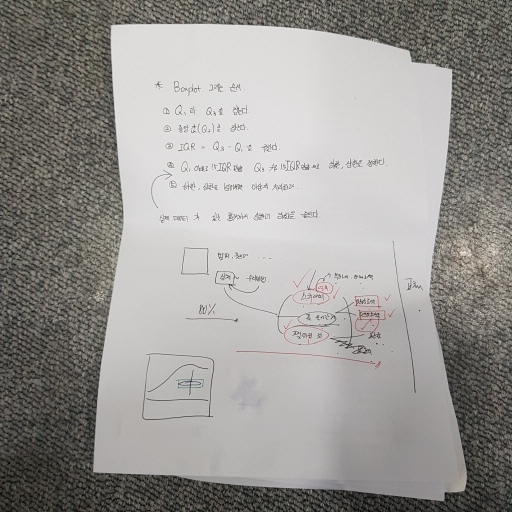Paper_3: (79, 4, 499, 511)
